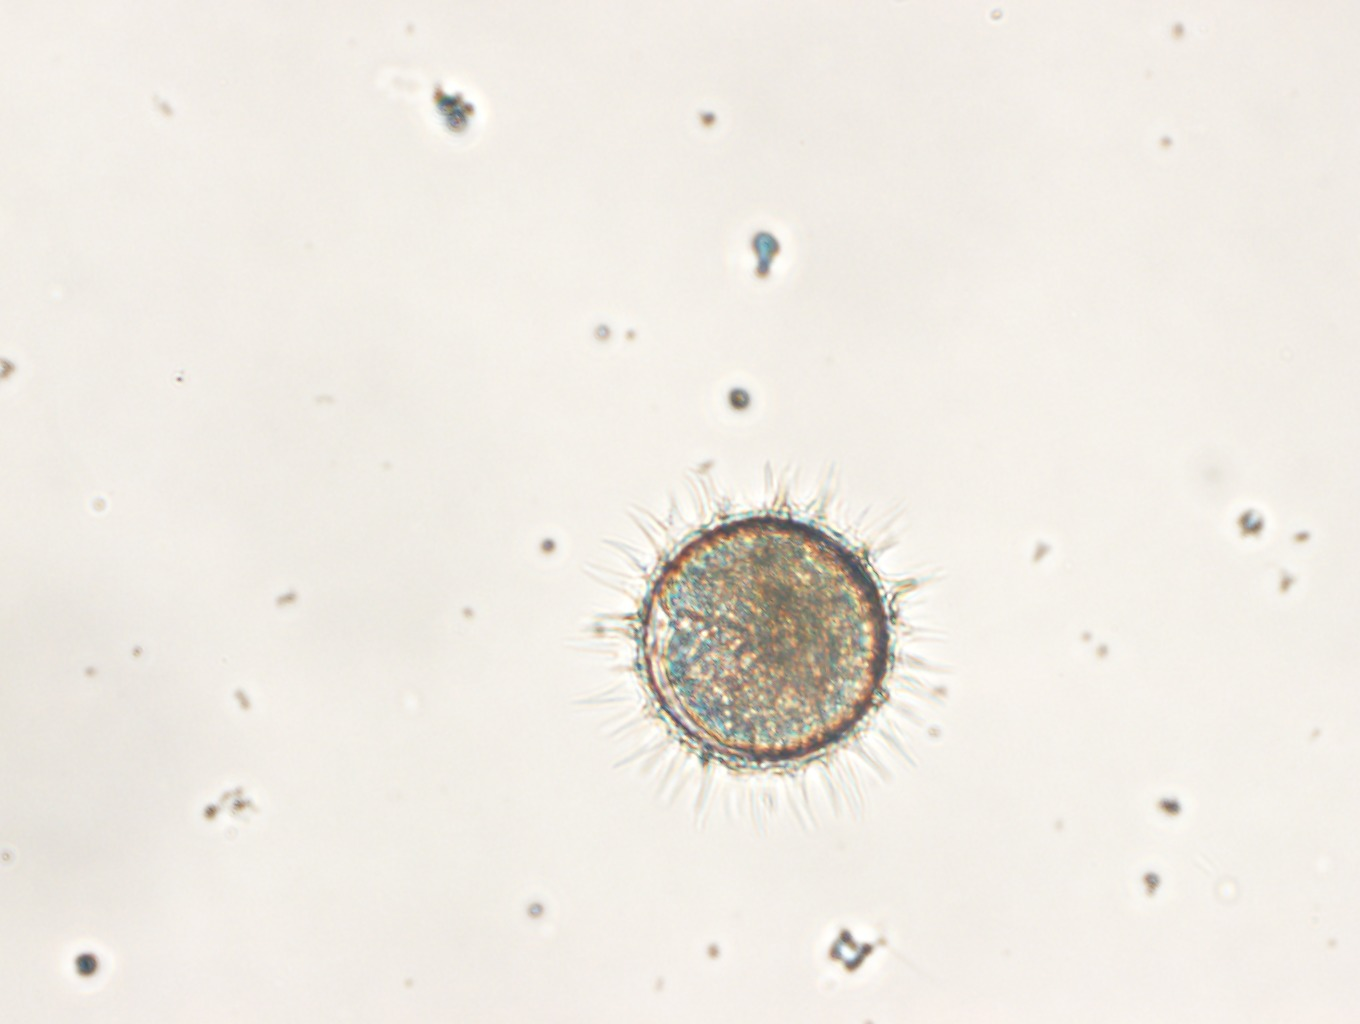corethron: (586, 459, 953, 835)
